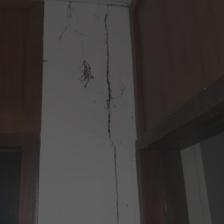High: (75, 2, 134, 224)
